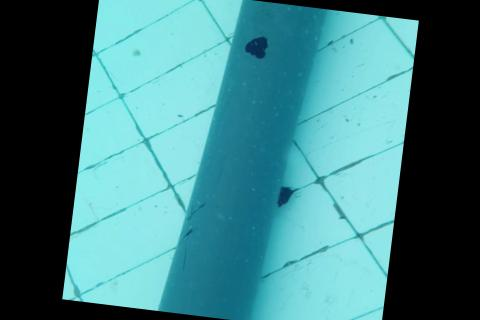kebocoran: (240, 32, 269, 59)
keretakan: (177, 189, 207, 271)
